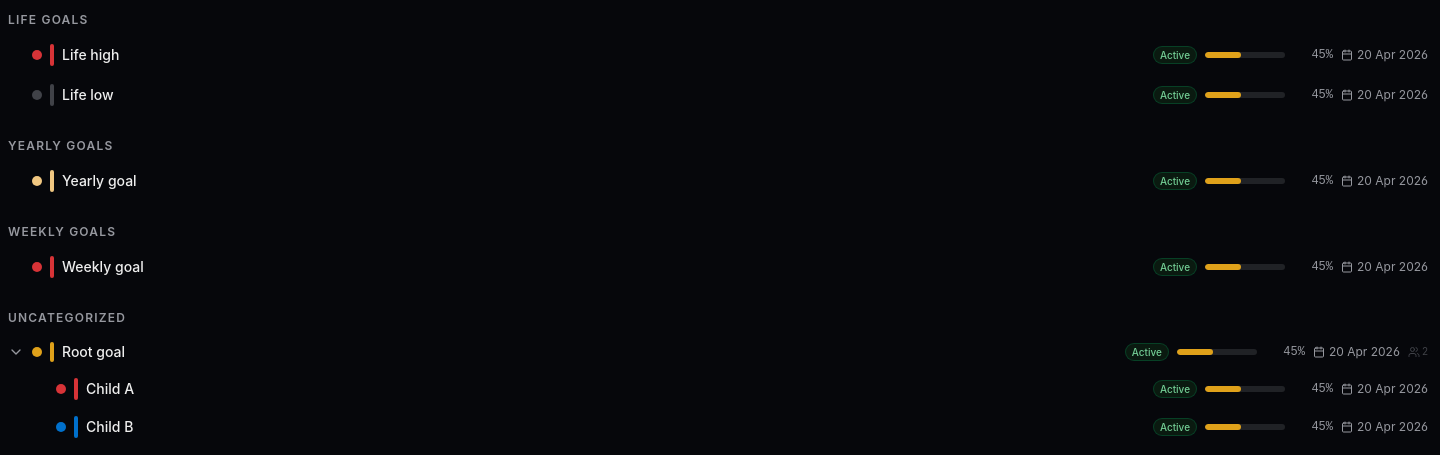
it: GoalTree › orders groups and nested goals by type and priority
Expected: the heading "life Goals" is shown, [8,12,88,27]
Expected: the heading "yearly Goals" is shown, [8,138,113,153]
Click the text "Root goal" at {"x": 94, "y": 351}, box [8,342,1428,362]
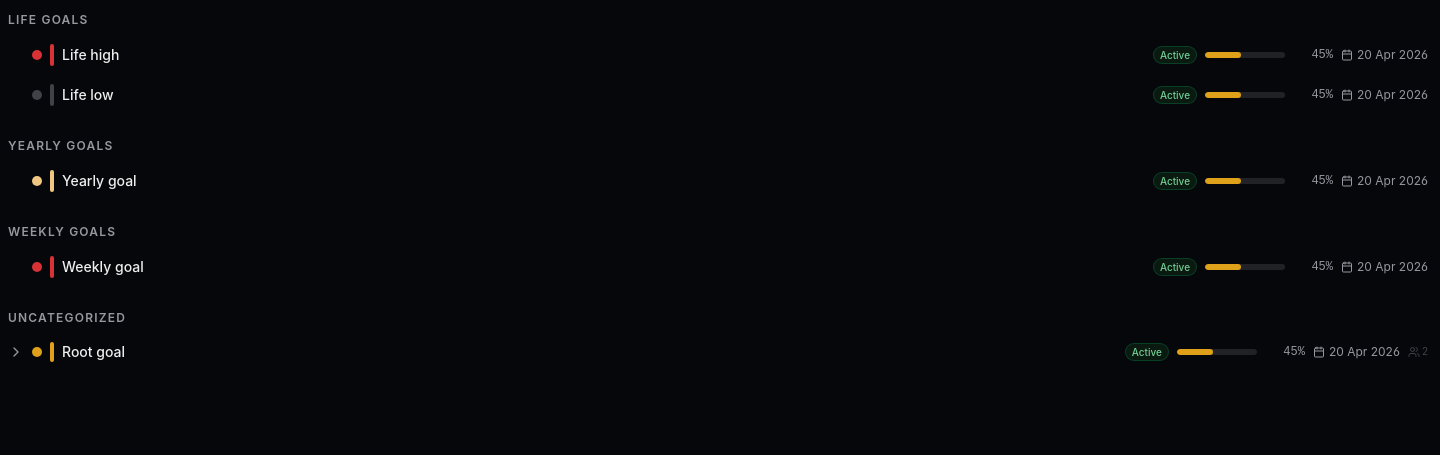
Now the text "Child A" is gone
